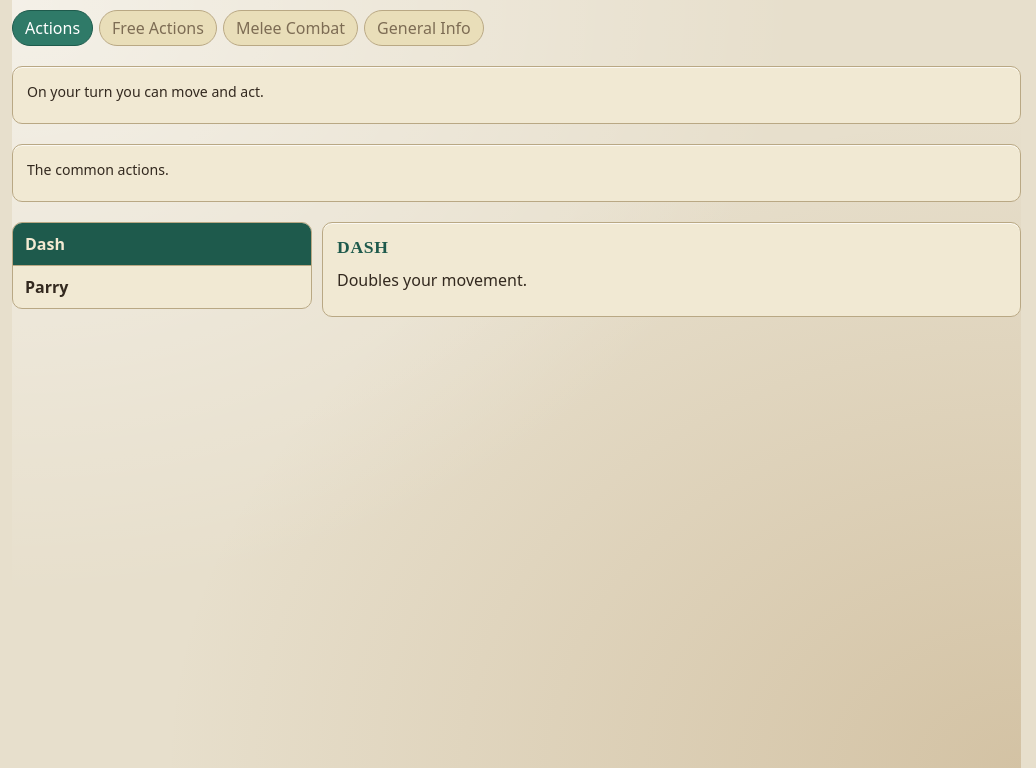
Test: RulesView with layout: tabs › shows a tab without a table as plain text (General Info): its body and its sections, no list of rows
Click the button with test id "chapter-tab" showing "General Info".
click(424, 28)  # box [364,10,484,46]
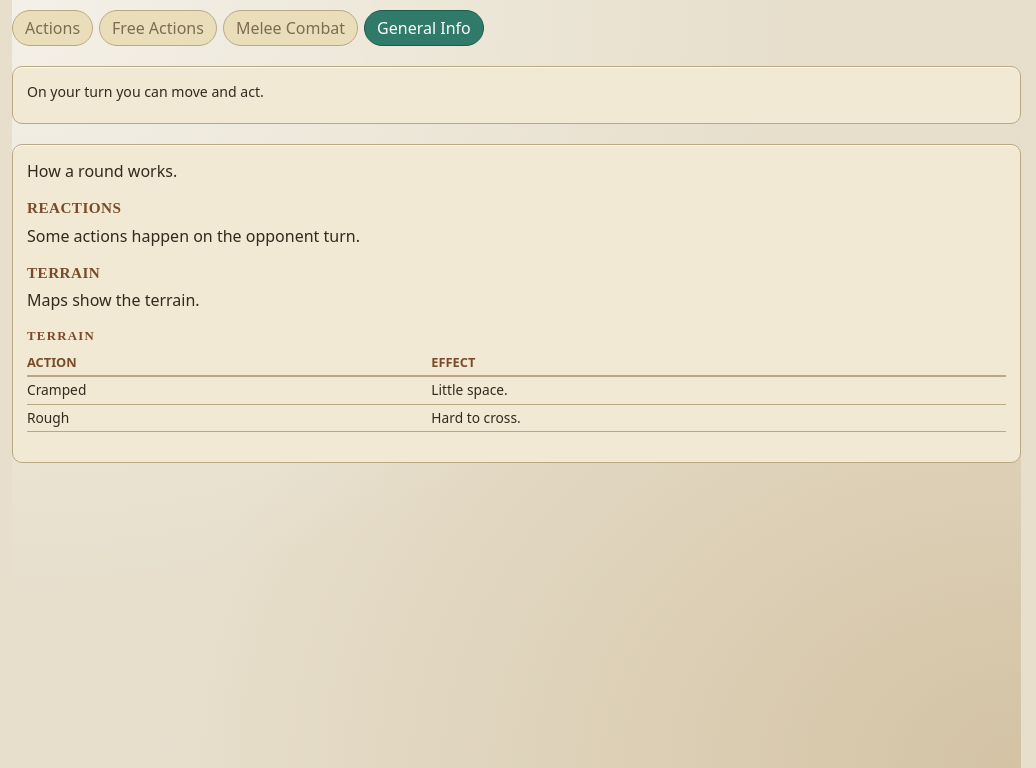
Now the element with test id "tab-text" shows "How a round works.", box [27,160,177,182]
Now the element with test id "tab-text" shows "Reactions", box [27,199,121,216]
Now the element with test id "tab-text" shows "Some actions happen on the opponent turn.", box [27,225,360,247]
